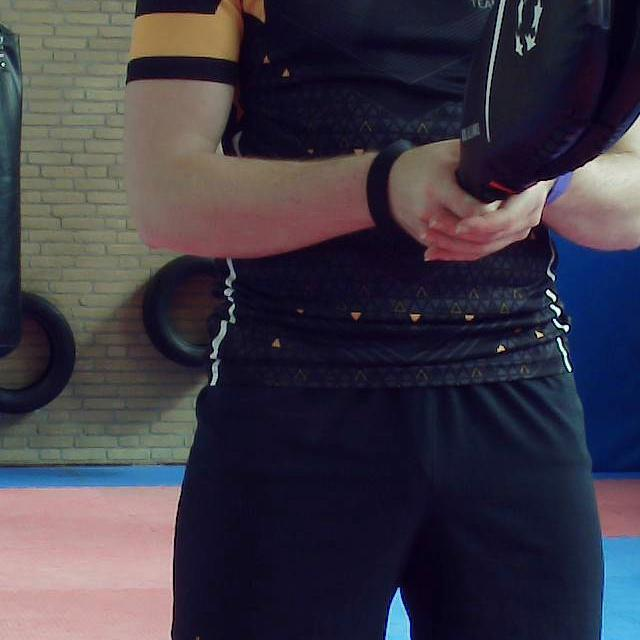paddle: (458, 0, 640, 200)
